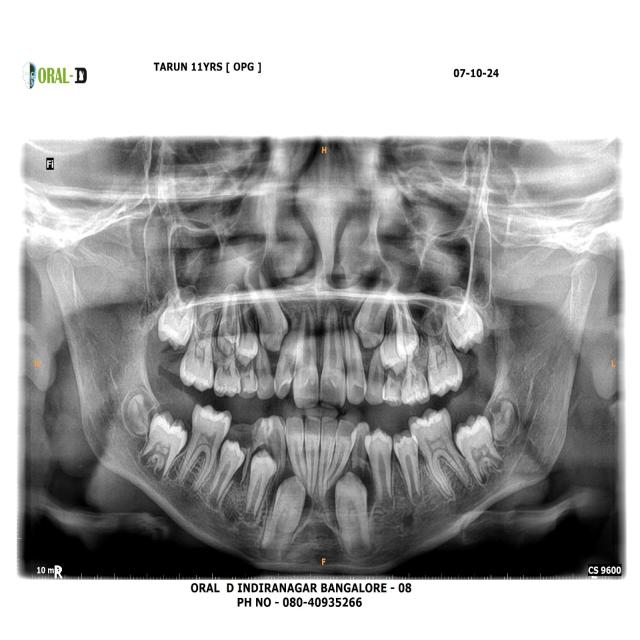Premolars: (364, 423, 394, 507), (392, 429, 423, 508)
